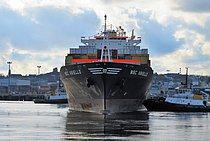Ship: (57, 13, 163, 115)
